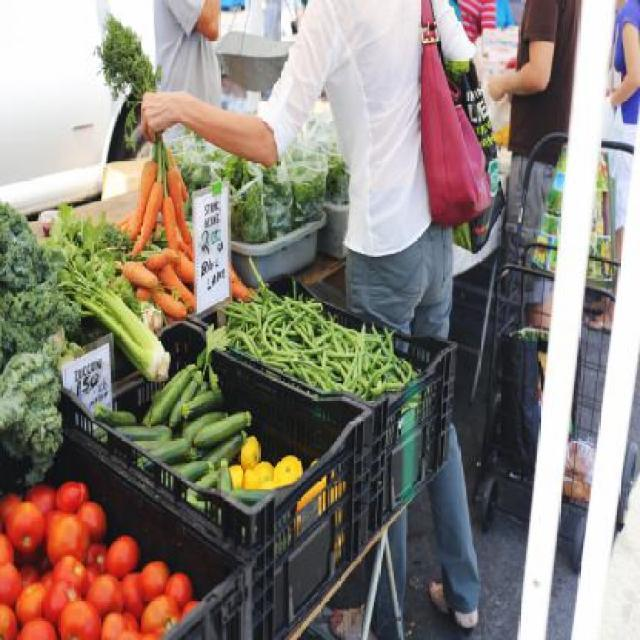Carrot: (120, 144, 192, 333)
